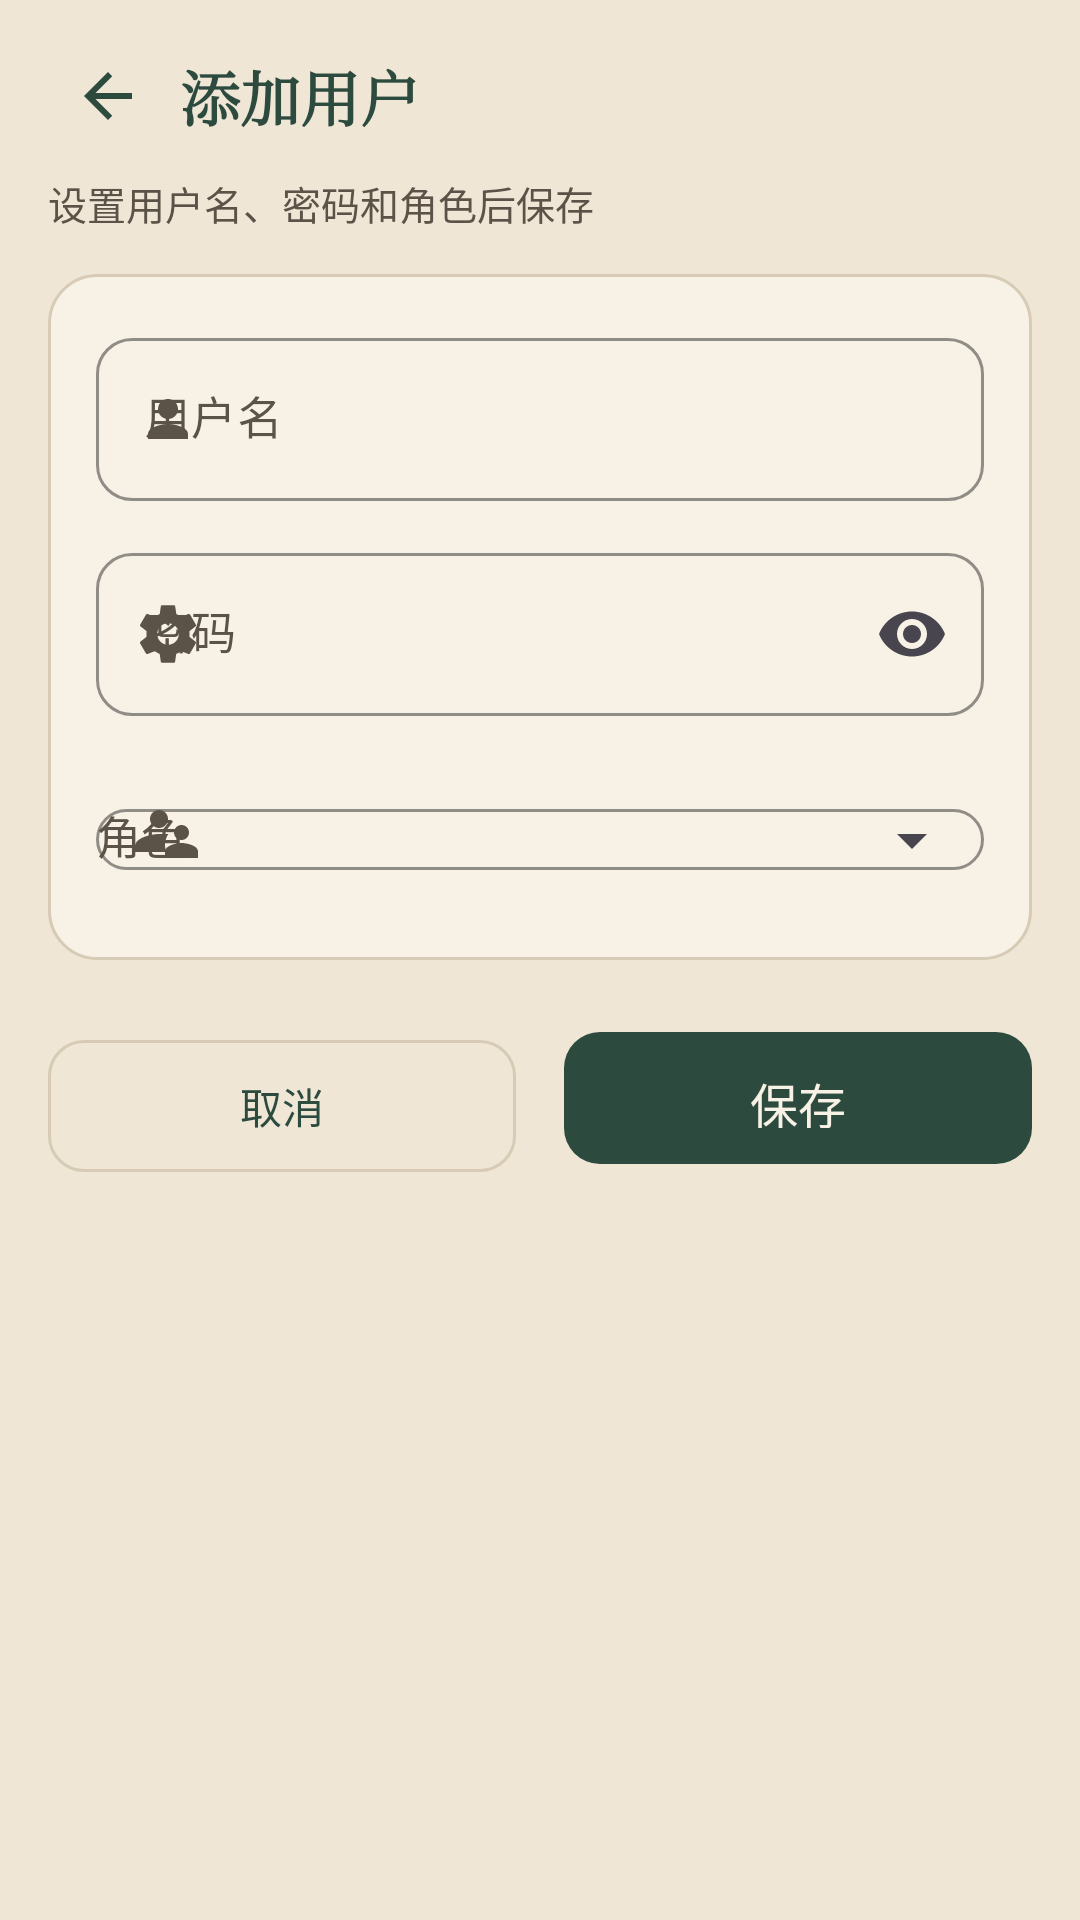

Point at icon controls on the screen. Image size 1080 × 1920, points as [x,y].
返回: [108,96]
